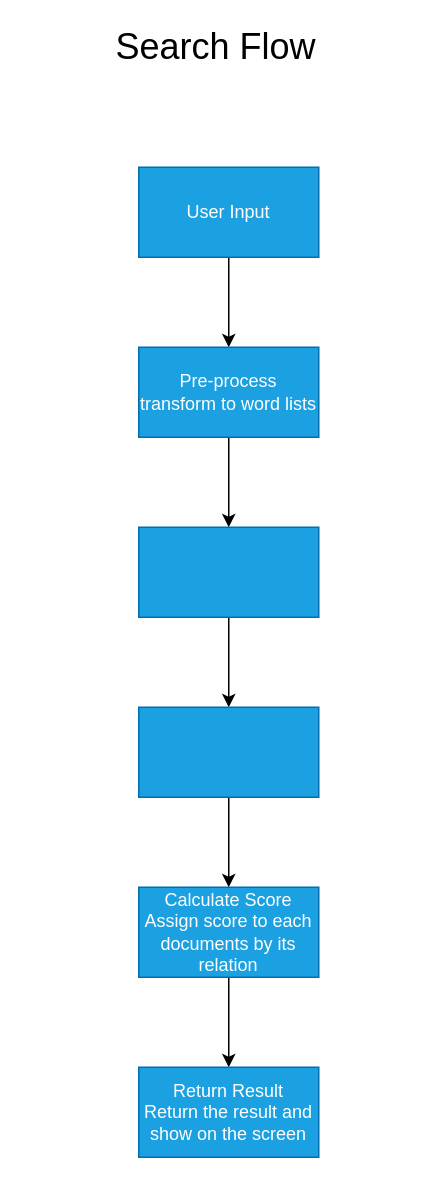
Image size: 441x1184. Some labels were removed from this diagram. The shapes that lost their labels are listed below. From the top down, each one's centre as x and y in pixels, then its label:
At (x=228, y=571): "Tranform to ID use hash table to quickly tranformed to ID".
At (x=228, y=751): "Find Document Find documents that ID appeared".
